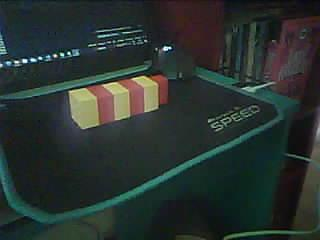lego: (69, 73, 169, 130)
